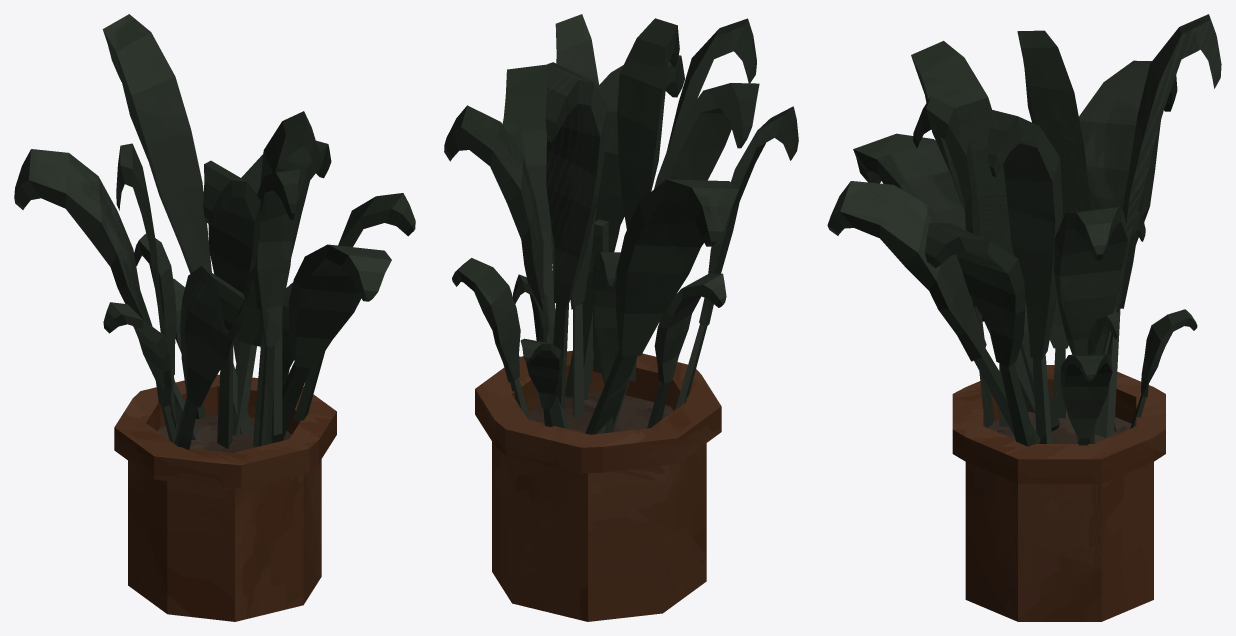
The model's file is M-Plant2Tall.fbx.
3 views of the same model, side by side, from view 1: azimuth 30°, elevation 25°; view 2: azimuth 150°, elevation 25°; view 3: azimuth 270°, elevation 25° (orthographic). The views are drawn at different scales.
Parts seen in each view (by area): view 1: Cube.001, Cube; view 2: Cube.001, Cube; view 3: Cube.001, Cube.
Part boxes in pixels (x1,y1,x2,y2): Cube.001: [14, 14, 415, 449]; Cube: [114, 374, 336, 621]; Cube.001: [444, 14, 798, 434]; Cube: [475, 350, 721, 621]; Cube.001: [827, 14, 1221, 446]; Cube: [952, 365, 1165, 621].
Bounding box in the file's own units: 35.36 × 38.91 × 59.92.
Materials: 2 (2 with a texture image).
